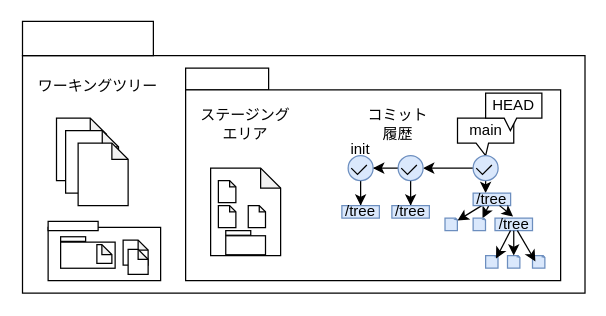
The diagram is 606 pixels wide and 316 high, and some of its shapes have lost their labels. Each missing label, with the box of its shape:
.git: (184, 67, 269, 90)
ディレクトリ: (21, 20, 153, 56)
